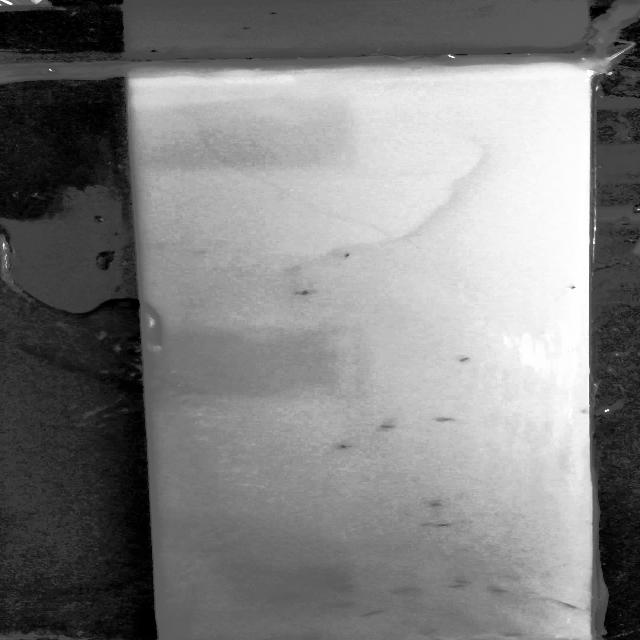shrimp: (416, 628, 464, 640), (417, 520, 471, 530), (326, 587, 362, 600), (453, 352, 484, 367), (267, 590, 309, 601), (358, 608, 390, 621), (449, 574, 482, 586), (496, 630, 534, 640), (485, 584, 519, 595), (432, 414, 462, 426), (388, 584, 424, 594), (555, 600, 585, 612), (426, 498, 454, 510), (438, 583, 478, 591), (328, 602, 363, 609), (378, 422, 404, 431), (335, 440, 358, 450), (296, 286, 318, 296), (340, 253, 360, 262), (563, 284, 577, 296), (324, 578, 346, 584)
